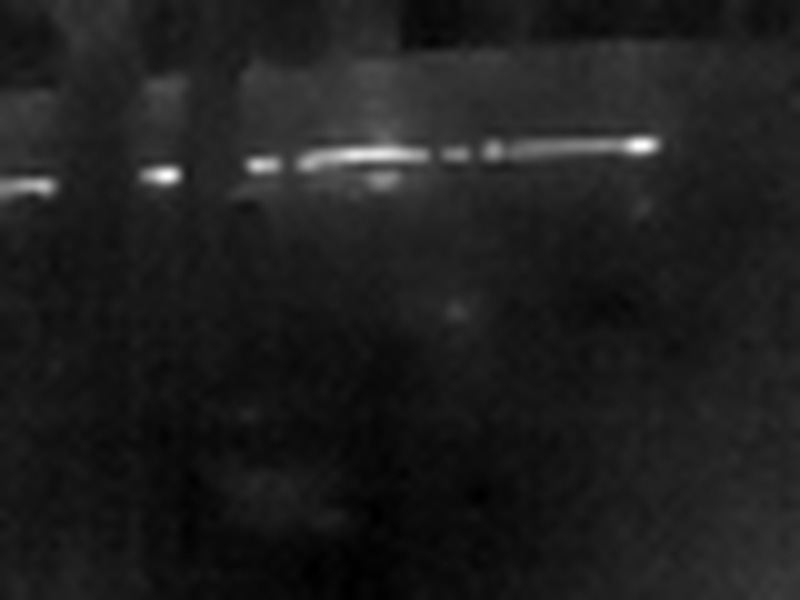elephant: (190, 384, 379, 533)
